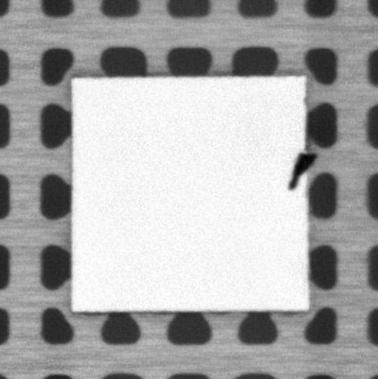DIE_INK: (288, 152, 318, 190)
